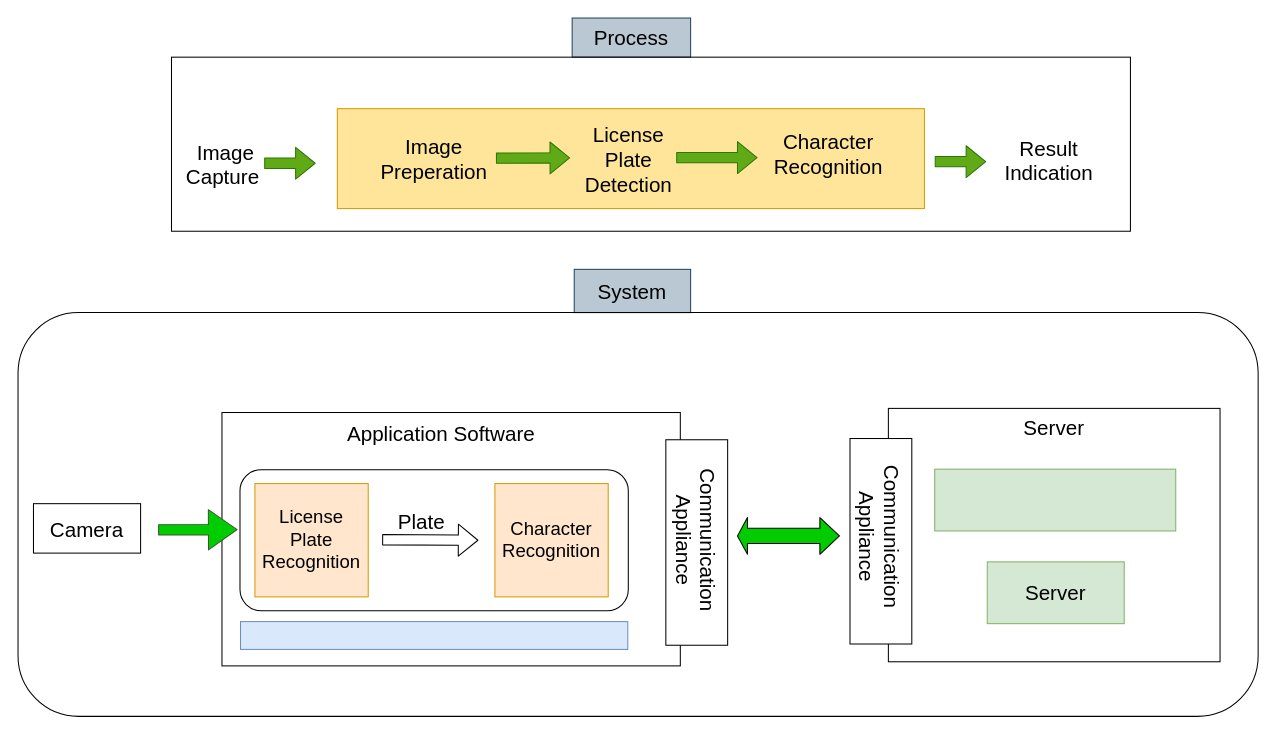
The diagram is 1276 pixels wide and 734 high, and some of its shapes have lost their labels. Each missing label, with the centre of its shape:
"Collaboration With External System" goes at (1055,499).
"OS" goes at (433,635).
